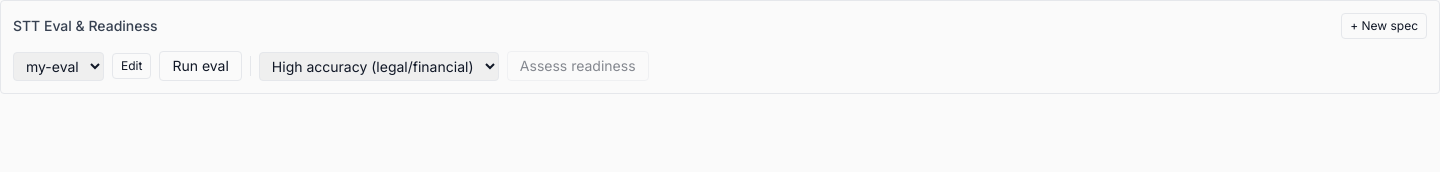
Test: SttEvalPanel › loads specs + profiles and runs an eval into the report table
Expected: the dropdown with test id "stt-eval-spec" is shown, [13,52,104,80]
Click the button with test id "stt-eval-run" at (201,66), box [159,51,242,81]
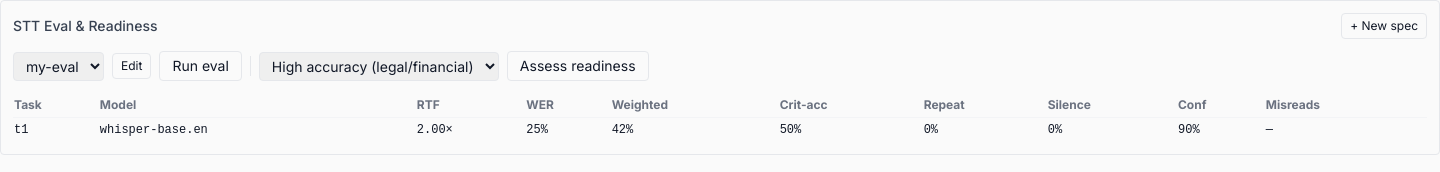
Expected: the row with test id "stt-eval-row-t1" is shown, [13,118,1427,142]
